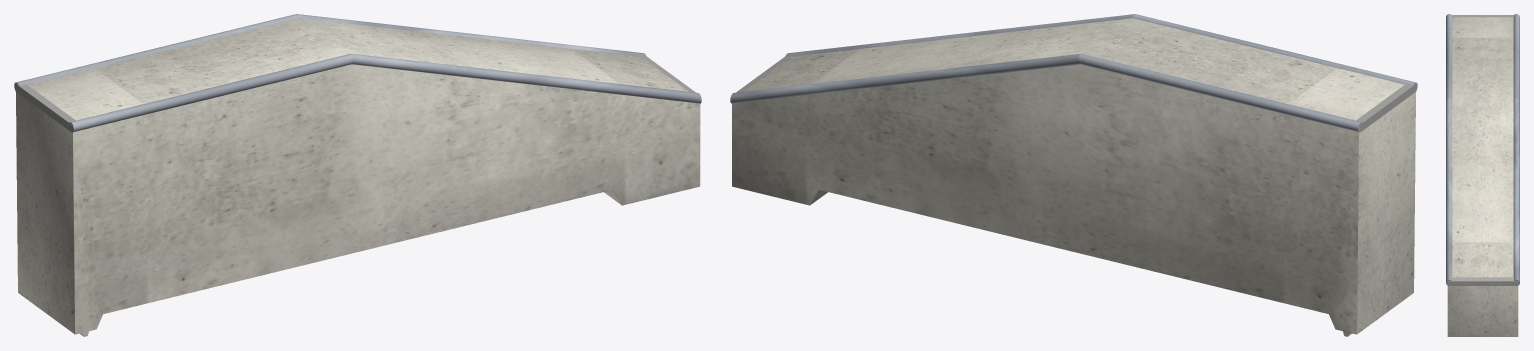
Rendered from ledge-lang-98-40.gltf.
3 renders of one model, left to right at view 1: azimuth 30°, elevation 25°; view 2: azimuth 150°, elevation 25°; view 3: azimuth 270°, elevation 25°, orthographic. The views are drawn at different scales.
Parts seen in each view (by area): view 1: SK0064_Ledge_lang-98-40.001; view 2: SK0064_Ledge_lang-98-40.001; view 3: SK0064_Ledge_lang-98-40.001.
Boxes of the visible parts, box(x1,y1,x2,y2) form: SK0064_Ledge_lang-98-40.001: box(14, 14, 701, 336); SK0064_Ledge_lang-98-40.001: box(730, 14, 1417, 336); SK0064_Ledge_lang-98-40.001: box(1446, 14, 1519, 336).
Size of the model in its own units: 2.92 by 0.96 by 0.48.
3 materials, 3 textured.
